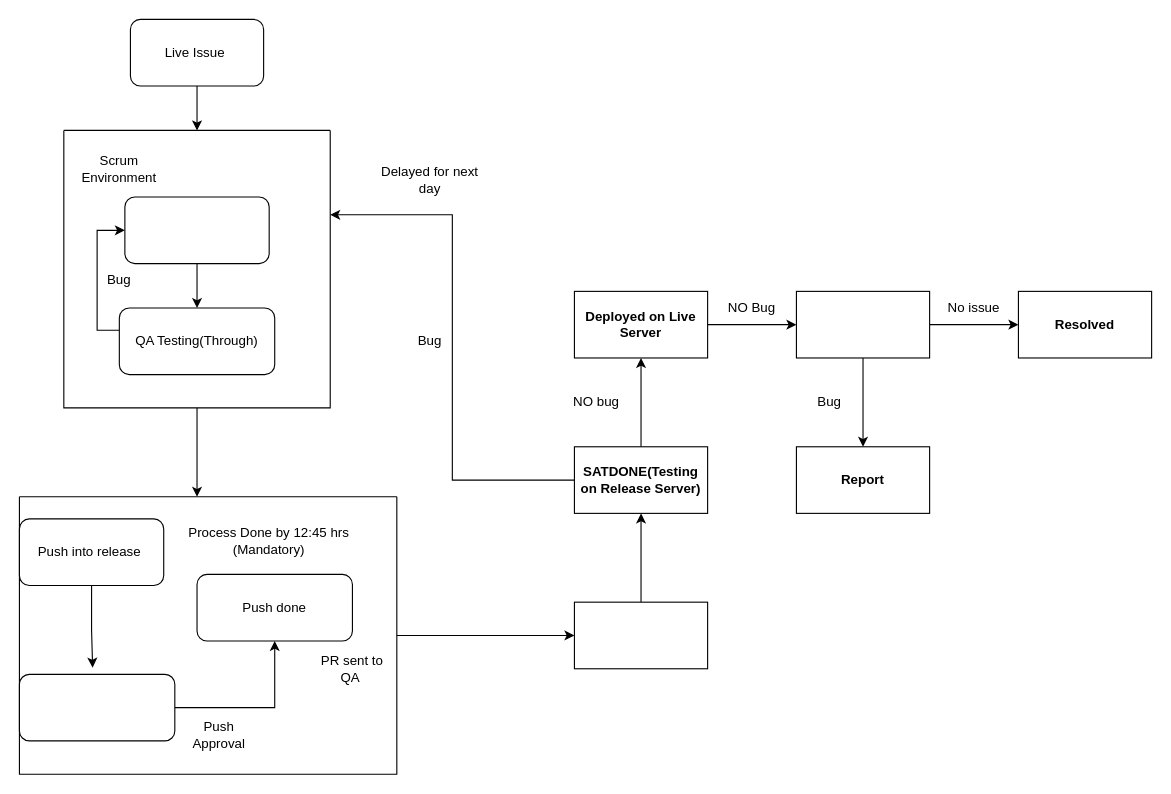
The diagram is 1171 pixels wide and 794 high, and some of its shapes have lost their labels. The box of each missing label's shape, as (x1, y1, x2, y2) in pixels:
Collect PR: (18, 673, 175, 741)
Deployed on Release Server: (573, 601, 708, 669)
Developer: (124, 196, 269, 264)
Post-Staging Testing: (795, 290, 930, 358)
